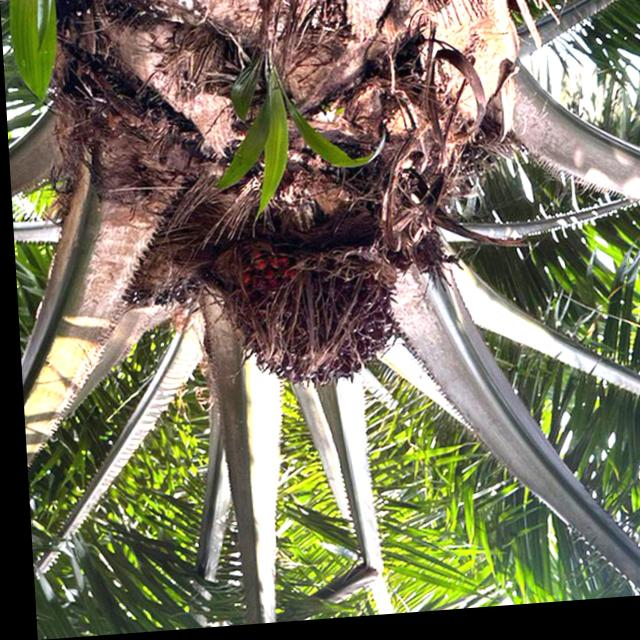almost: (201, 216, 411, 411)
